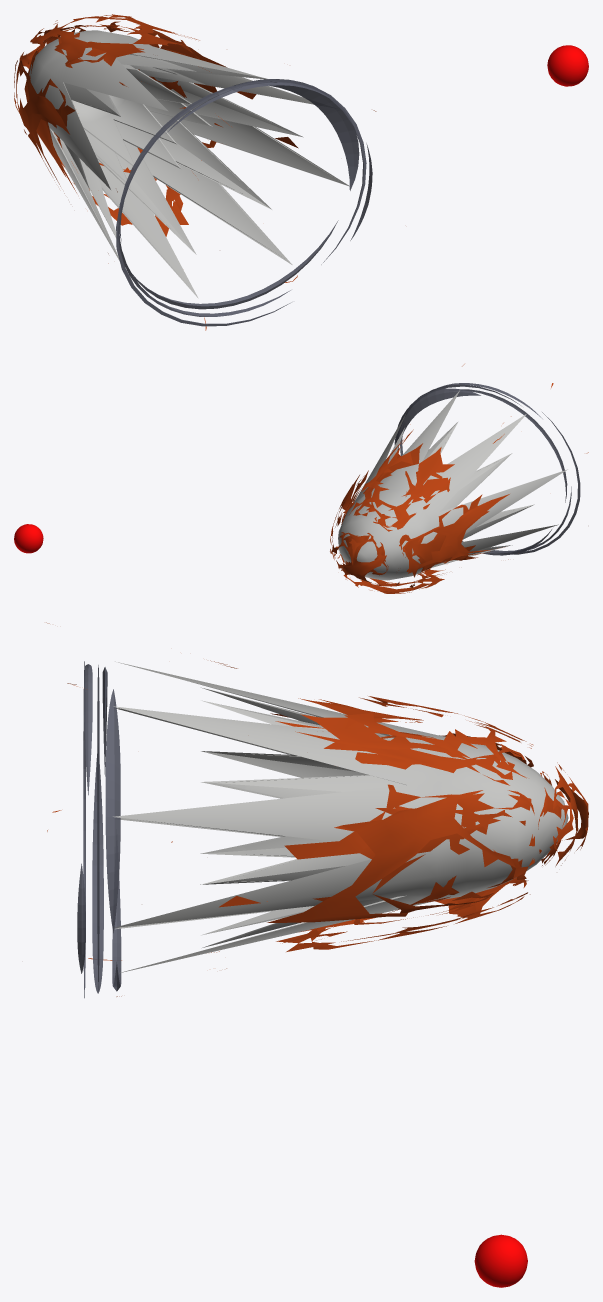
The model's file is Punch.obj.
3 views of the same model, one above another, from view 1: azimuth 30°, elevation 25°; view 2: azimuth 150°, elevation 25°; view 3: azimuth 270°, elevation 25° (orthographic). The views are drawn at different scales.
Parts seen in each view (by area): view 1: Wave1, Meshpart1, GrowingWind1, Part1; view 2: Wave1, Meshpart1, GrowingWind1, Part1; view 3: Wave1, Meshpart1, GrowingWind1, Part1.
Part boxes in pixels (left/top/right/bottom): Wave1: left=28, top=30, right=350, bottom=298; Meshpart1: left=14, top=14, right=376, bottom=330; GrowingWind1: left=116, top=79, right=372, bottom=326; Part1: left=547, top=45, right=588, bottom=86; Wave1: left=338, top=390, right=567, bottom=580; Meshpart1: left=330, top=364, right=588, bottom=593; GrowingWind1: left=394, top=383, right=580, bottom=555; Part1: left=14, top=524, right=43, bottom=553; Wave1: left=113, top=661, right=568, bottom=973; Meshpart1: left=46, top=622, right=588, bottom=996; GrowingWind1: left=77, top=661, right=121, bottom=998; Part1: left=474, top=1234, right=527, bottom=1287.
Bounding box in the file's own units: 28.36 × 10.81 × 17.29.
